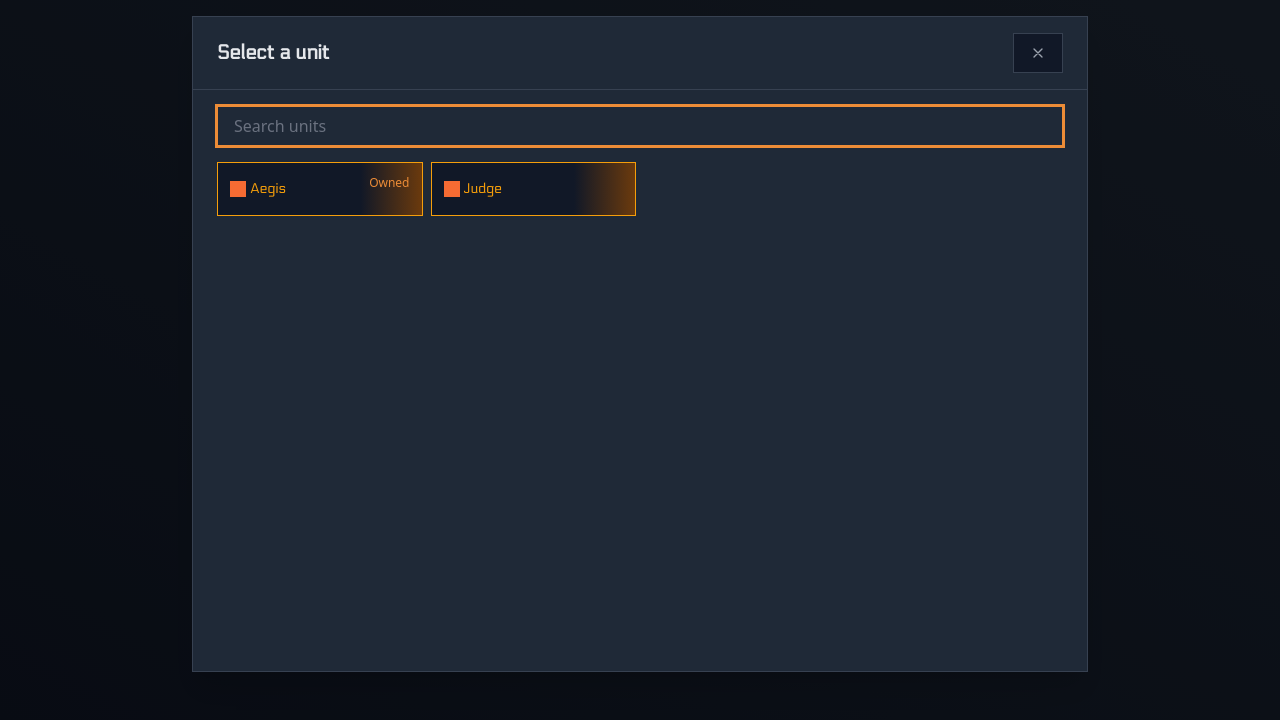
Test: UnitVersionSelector › lists every owned copy of the unit
Click the text "Aegis" at (268, 189), box left=250, top=179, right=286, bottom=199
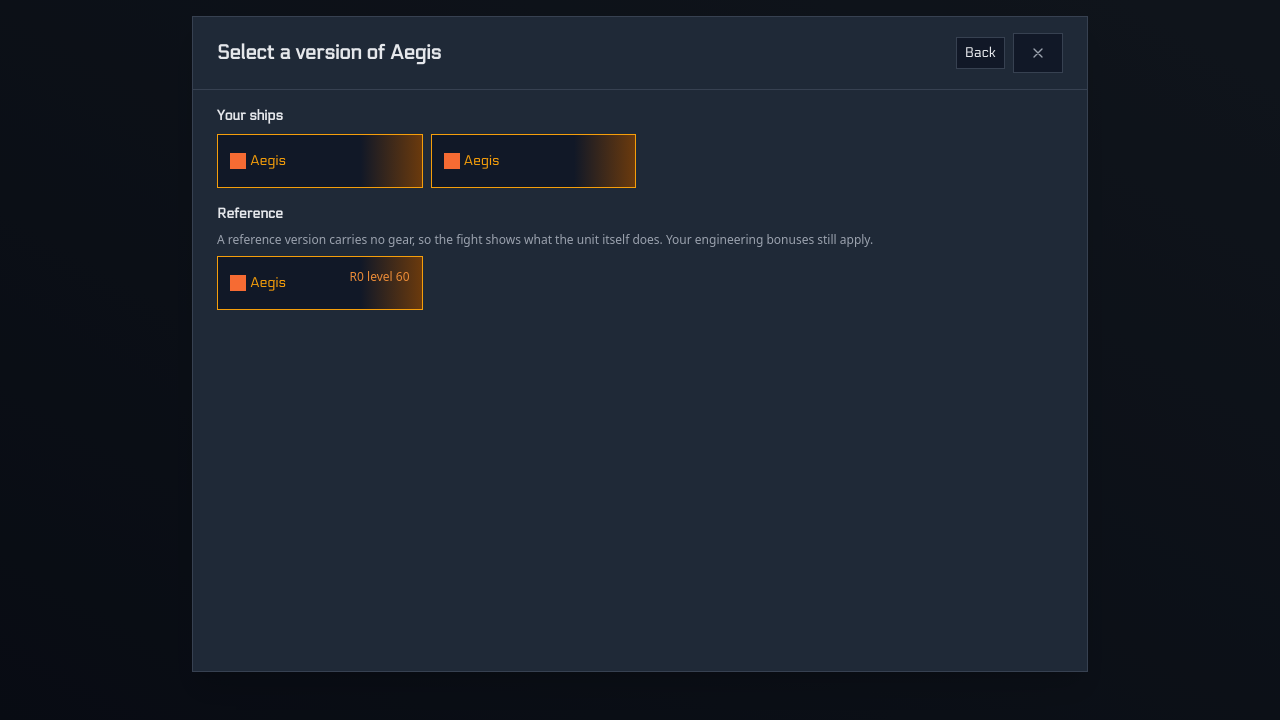
expect the heading "Your ships" is shown: met, box left=217, top=107, right=283, bottom=124
